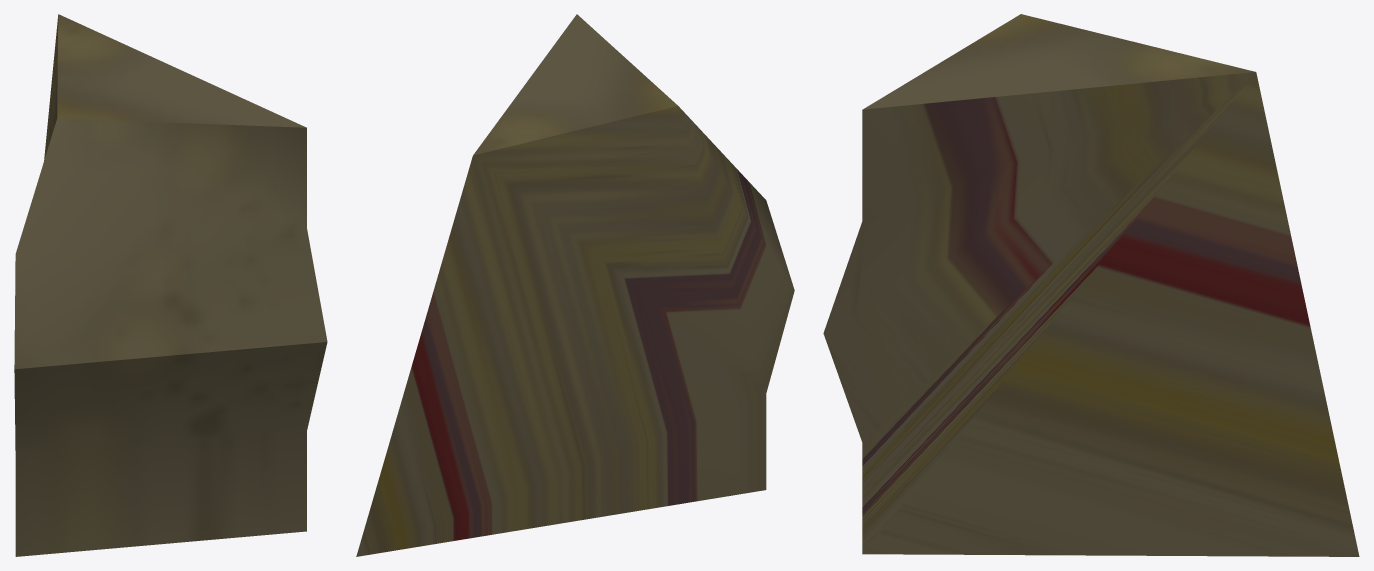
Rendered from ishi_02_10_6.fbx.
3 views of the same model, side by side, from view 1: azimuth 30°, elevation 25°; view 2: azimuth 150°, elevation 25°; view 3: azimuth 270°, elevation 25° (orthographic). The views are drawn at different scales.
Parts seen in each view (by area): view 1: polySurface35; view 2: polySurface35; view 3: polySurface35.
Boxes of the visible parts, bbox=[...] form: polySurface35: bbox=[14, 14, 327, 556]; polySurface35: bbox=[356, 14, 794, 556]; polySurface35: bbox=[823, 14, 1359, 556].
Bounding box in the file's own units: 3.53 × 5.14 × 5.61.
1 material, 1 textured.
